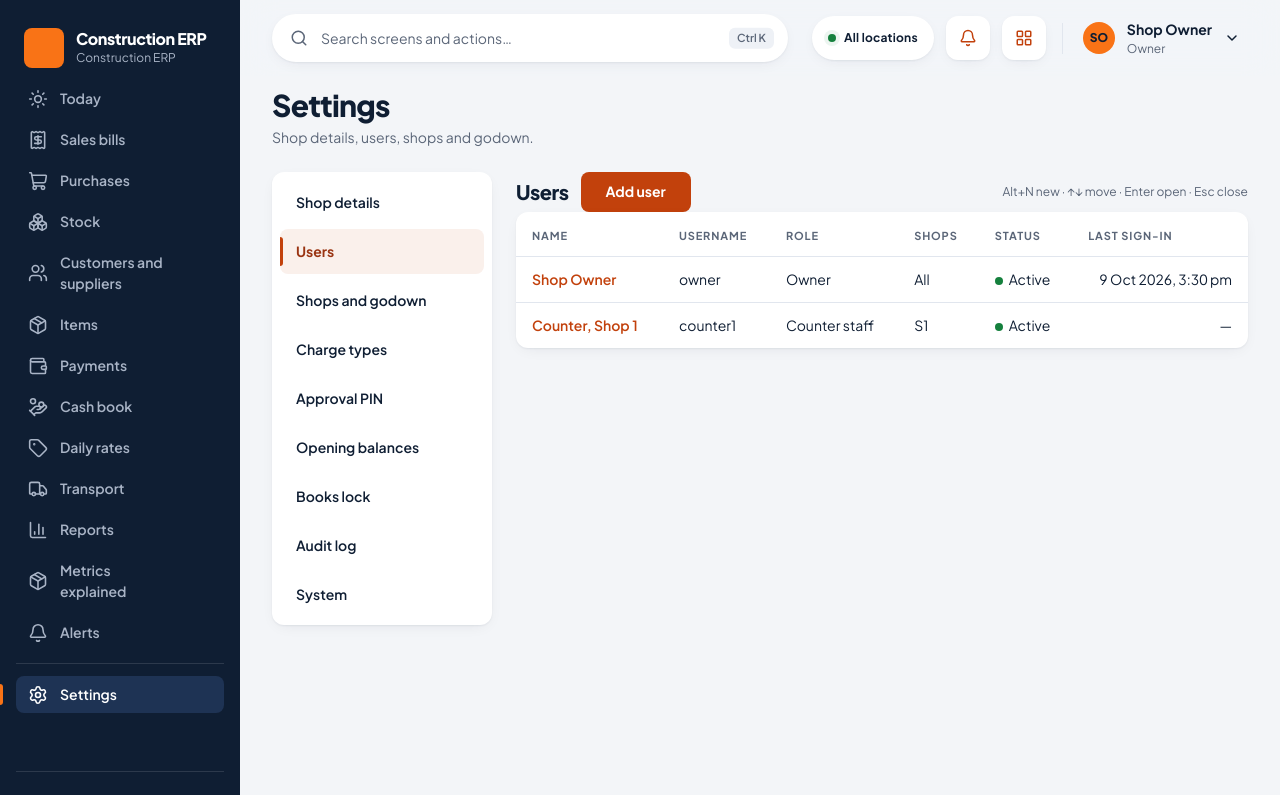
Test: Users › opens a new user form with Alt+N, checks it, and creates the user
Expected: the button "Counter, Shop 1" is shown, top-left (532, 315), bottom-right (638, 336)
Step 1. Type keys "{Alt>}n{/Alt}"
(page scrolled)
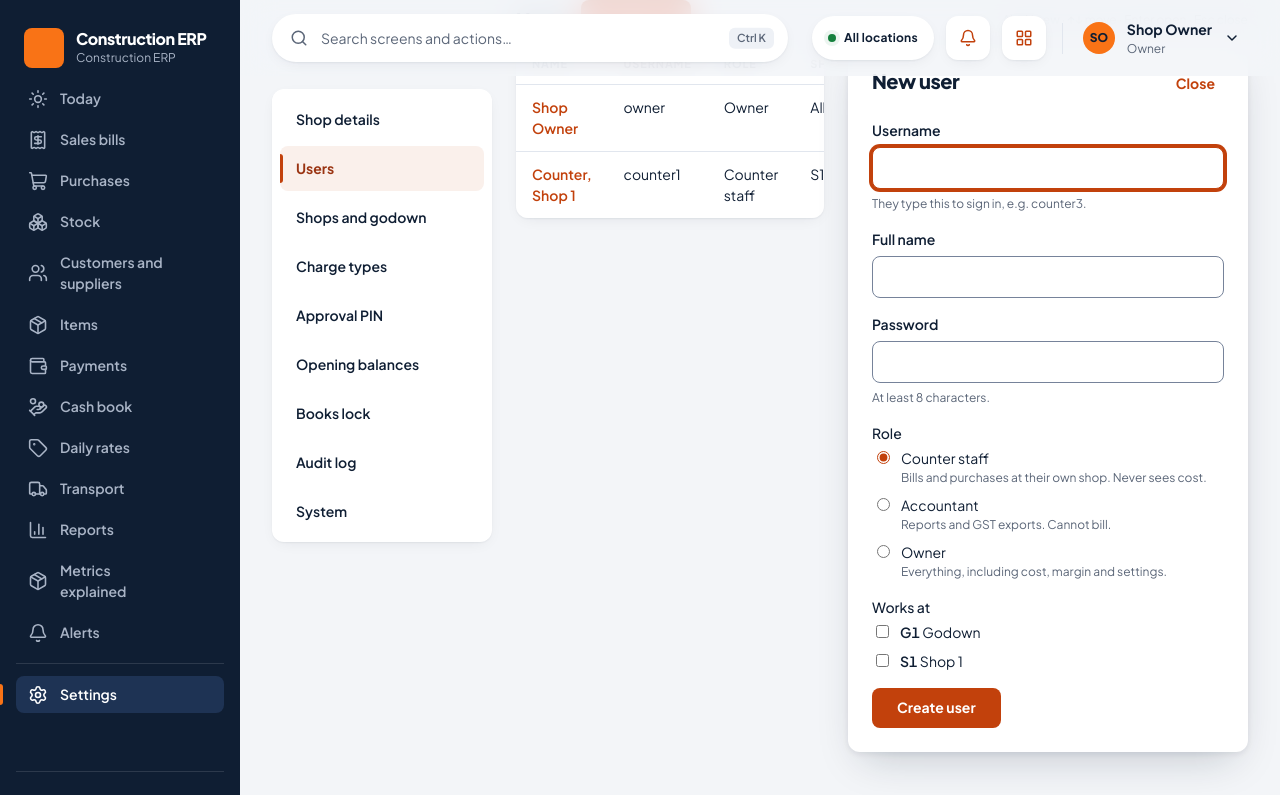
Step 2. Click the button "Create user" → [936, 708], box top-left (872, 688), bottom-right (1001, 728)
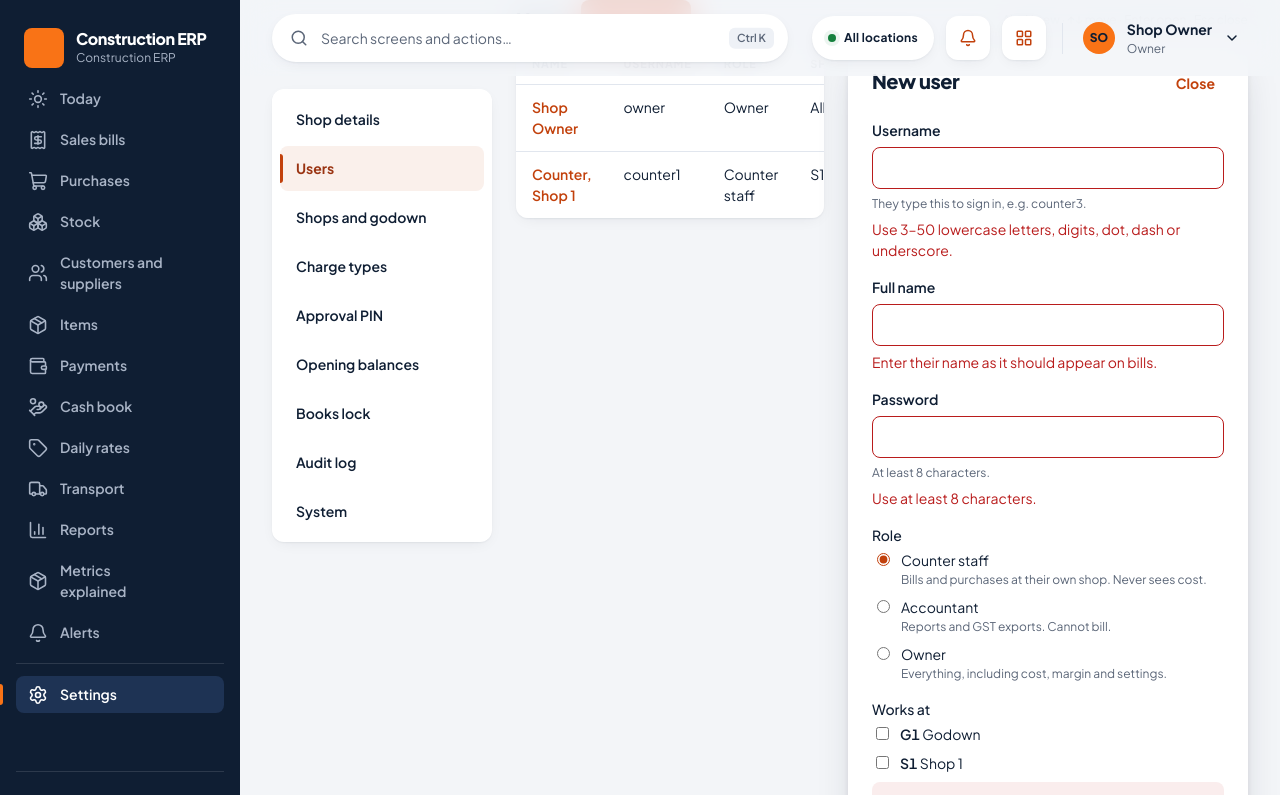
Expected: the text "Use 3–50 lowercase letters, digits, dot, dash or underscore." is shown, top-left (872, 218), bottom-right (1224, 260)
Step 3. Type "Counter3" into the field labelled "Username" → [1048, 168], box top-left (872, 146), bottom-right (1224, 188)
Step 4. Type "Ravi" into the field labelled "Full name" → [1048, 324], box top-left (872, 304), bottom-right (1224, 346)
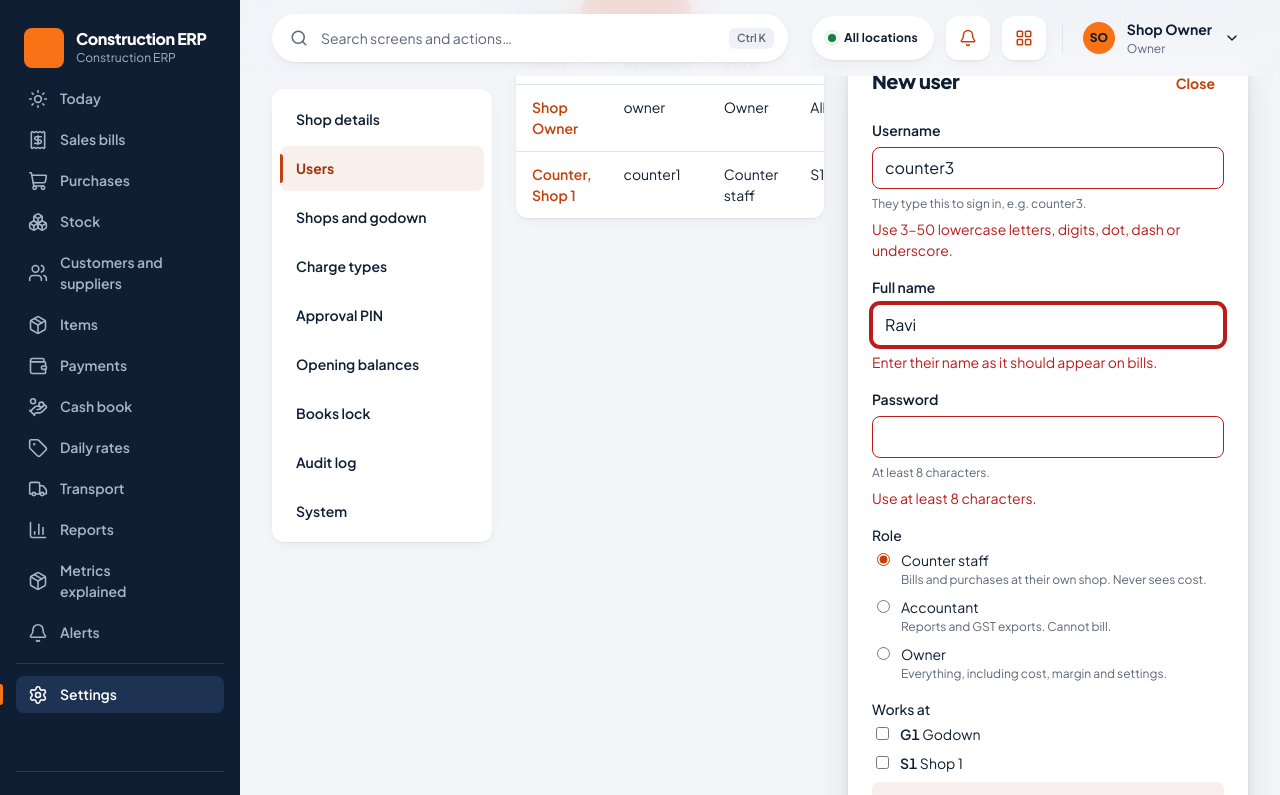
Step 5. Type "long-enough" into the password field labelled "Password" → [1048, 436], box top-left (872, 416), bottom-right (1224, 458)
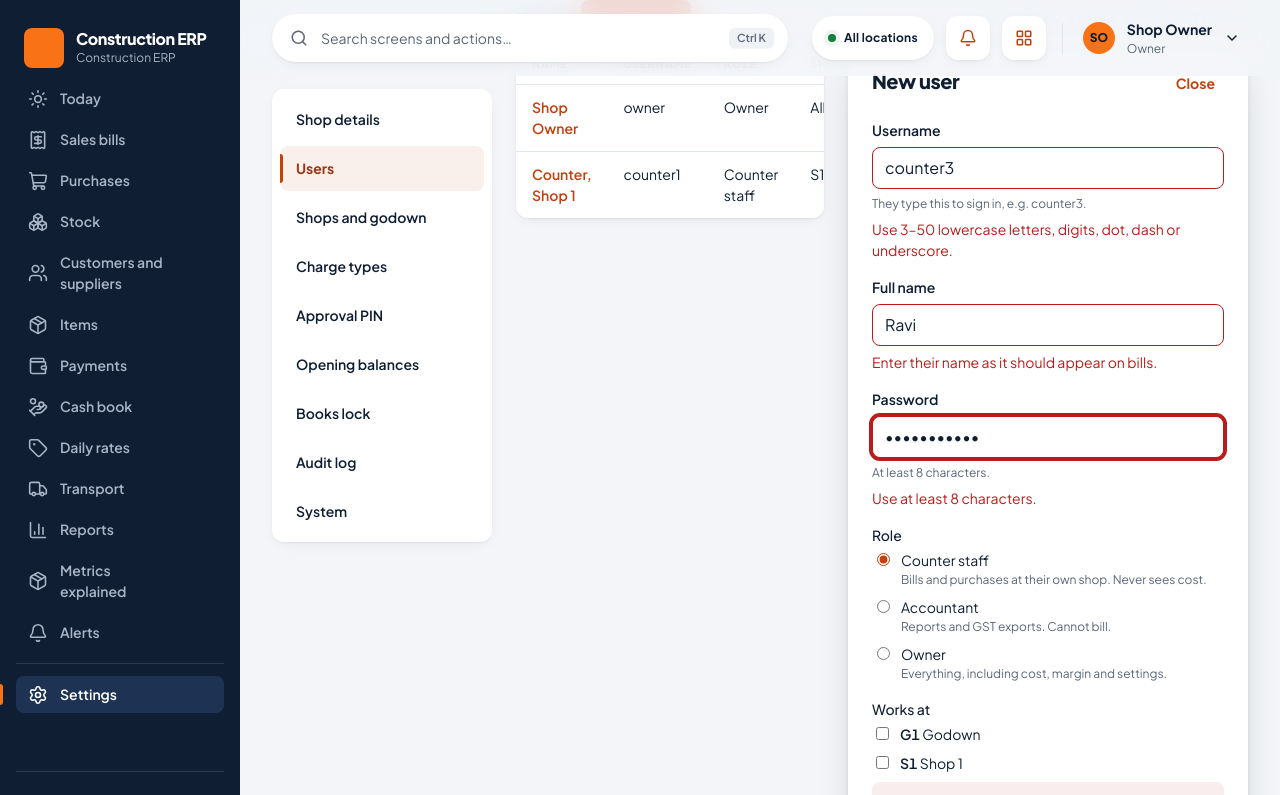
Step 6. Click the checkbox labelled "S1 Shop 1" → [882, 762], box top-left (876, 756), bottom-right (889, 768)
(page scrolled)
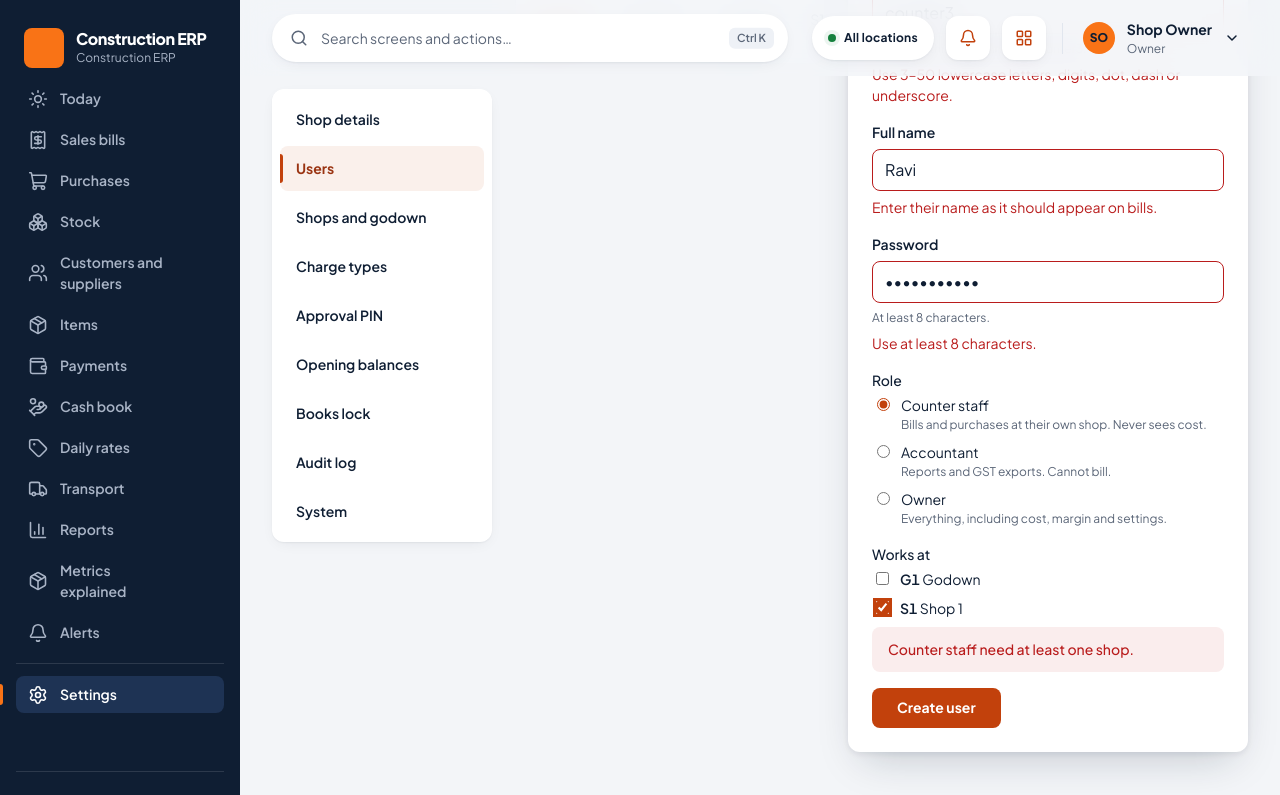
Step 7. Click the button "Create user" → [936, 708], box top-left (872, 688), bottom-right (1001, 728)
(page scrolled)
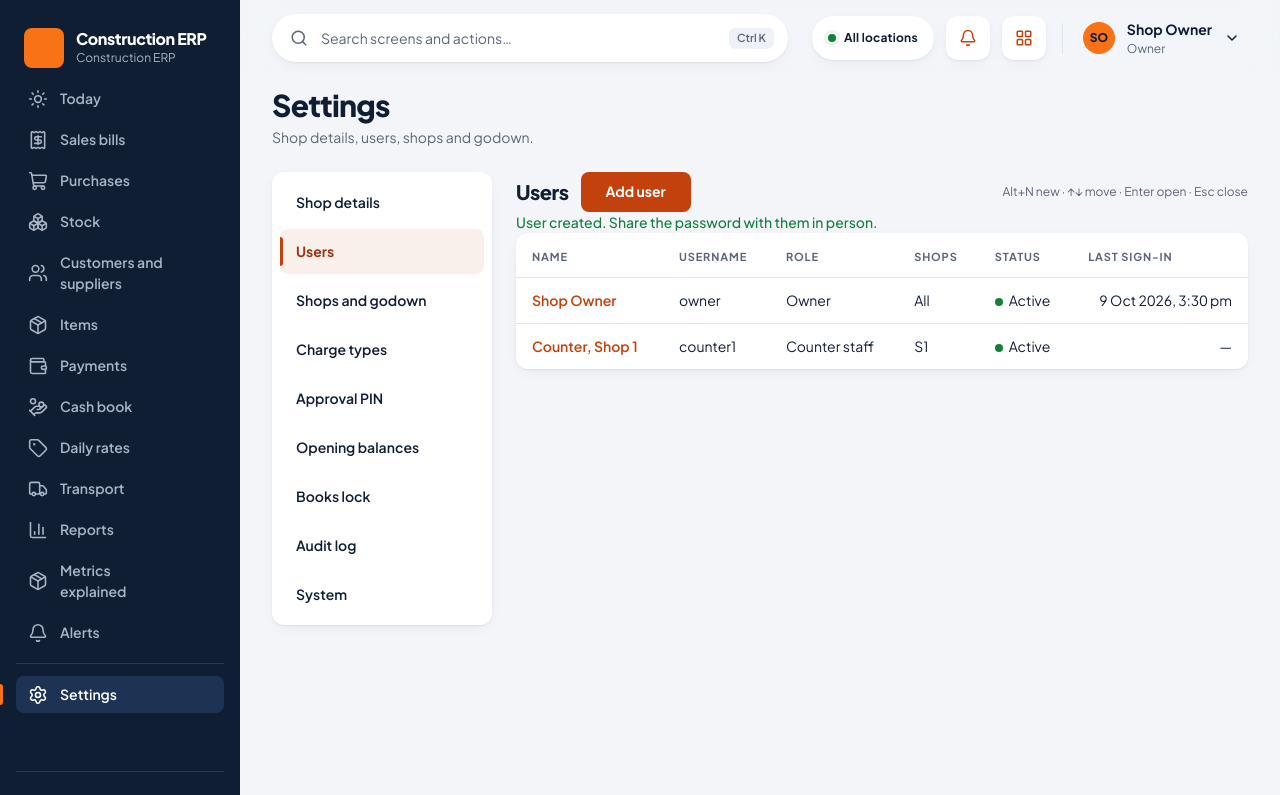
Expected: the text "User created. Share the password with them in person." is shown, top-left (516, 212), bottom-right (878, 230)
